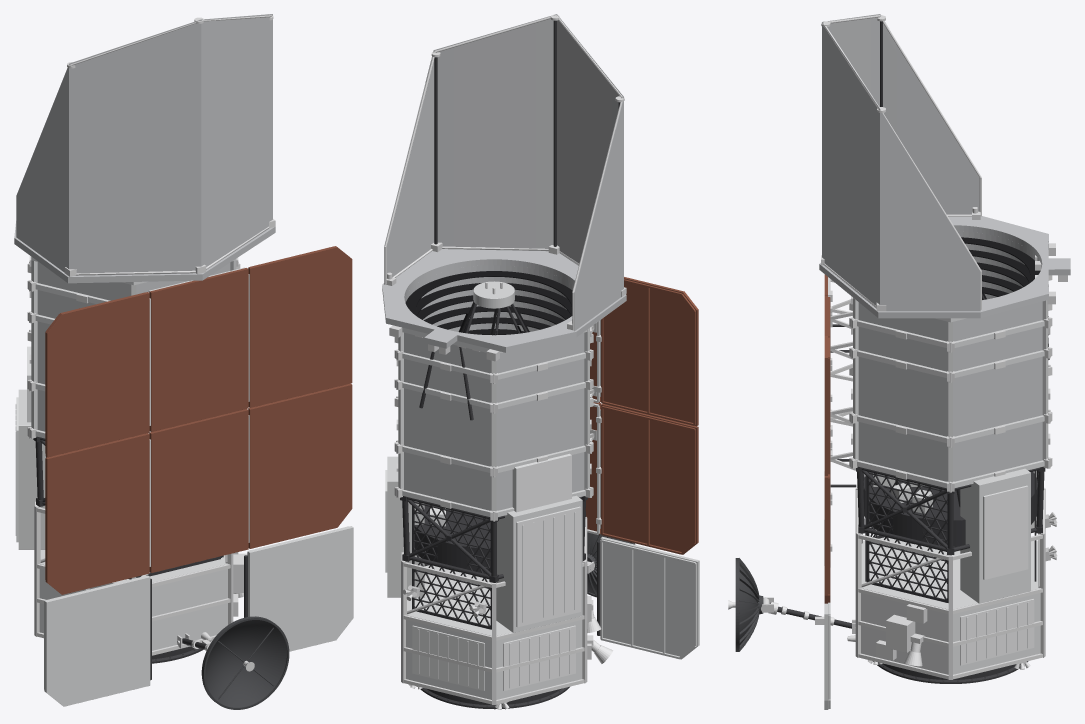
Rendered from roman.glb.
The picture shows the model from 3 angles, left to right: view 1: azimuth 30°, elevation 25°; view 2: azimuth 150°, elevation 25°; view 3: azimuth 270°, elevation 25°; orthographic projection. The views are drawn at different scales.
Visible parts, largest first — view 1: DAC.Membrane, SASS.Outer.NX.2, SASS.Outer.NX.1, SASS.Outer.PX.1, SASS.Outer.PX.2, SASS.Centre.1, SASS.Centre.2, LISS.Panel.2, LISS.Panel.1, BUS.Hex, HGA.Dish, OBA.Barrel (+8 smaller); view 2: DAC.Membrane, OBA.Barrel, SASS.Outer.NX.1, SASS.Outer.NX.2, LISS.Panel.2, WFI.Radiator, OBA.FrontRing, BUS.Radiator, OBA.Frames, BUS.Hex, BUS.Detail, BUS.Isogrid (+17 smaller); view 3: DAC.Membrane, OBA.Barrel, BUS.Hex, OBA.Frames, BUS.Detail, OBA.FrontRing, BUS.Isogrid, CGI.Body, CGI.Detail, BUS.Radiator, IC.Deck, OBA.Brackets (+12 smaller).
Boxes of the visible parts, bbox=[...] form: DAC.Membrane: bbox=[16, 14, 272, 275]; SASS.Outer.NX.2: bbox=[45, 292, 149, 457]; SASS.Outer.NX.1: bbox=[45, 433, 149, 594]; SASS.Outer.PX.1: bbox=[248, 383, 352, 548]; SASS.Outer.PX.2: bbox=[248, 246, 352, 407]; SASS.Centre.1: bbox=[149, 409, 248, 572]; SASS.Centre.2: bbox=[149, 268, 248, 431]; LISS.Panel.2: bbox=[44, 575, 150, 706]; LISS.Panel.1: bbox=[247, 526, 353, 651]; BUS.Hex: bbox=[39, 550, 227, 650]; HGA.Dish: bbox=[205, 620, 286, 707]; OBA.Barrel: bbox=[37, 262, 230, 431]; DAC.Membrane: bbox=[384, 14, 623, 331]; OBA.Barrel: bbox=[404, 265, 584, 510]; SASS.Outer.NX.1: bbox=[601, 403, 698, 554]; SASS.Outer.NX.2: bbox=[601, 277, 698, 426]; LISS.Panel.2: bbox=[600, 536, 699, 659]; WFI.Radiator: bbox=[512, 453, 580, 627]; OBA.FrontRing: bbox=[382, 249, 626, 352]; BUS.Radiator: bbox=[412, 625, 575, 690]; OBA.Frames: bbox=[398, 327, 589, 516]; BUS.Hex: bbox=[406, 565, 582, 699]; BUS.Detail: bbox=[401, 517, 591, 704]; BUS.Isogrid: bbox=[412, 500, 491, 629]; DAC.Membrane: bbox=[822, 14, 980, 311]; OBA.Barrel: bbox=[858, 231, 1042, 481]; BUS.Hex: bbox=[861, 537, 1040, 674]; OBA.Frames: bbox=[853, 298, 1048, 488]; BUS.Detail: bbox=[855, 487, 1045, 679]; OBA.FrontRing: bbox=[819, 216, 1070, 318]; BUS.Isogrid: bbox=[865, 471, 1036, 602]; CGI.Body: bbox=[960, 468, 1030, 603]; CGI.Detail: bbox=[983, 485, 1028, 579]; BUS.Radiator: bbox=[960, 599, 1034, 665]; IC.Deck: bbox=[863, 471, 1037, 547]; OBA.Brackets: bbox=[849, 243, 1067, 492].
Size of the model in its own units: 6.21 by 12.7 by 6.28.
